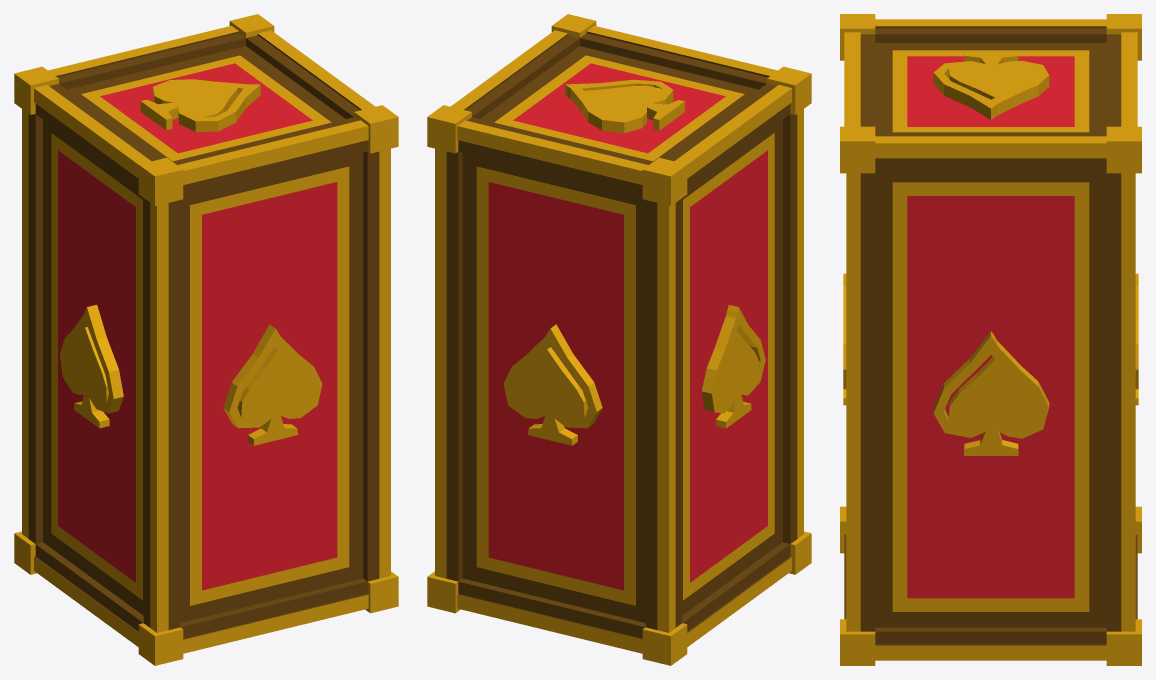
File: BoxTallv02.fbx
3 renders of one model, left to right at view 1: azimuth 30°, elevation 25°; view 2: azimuth 150°, elevation 25°; view 3: azimuth 270°, elevation 25°, orthographic. The views are drawn at different scales.
Visible parts, largest first — view 1: Text.005; view 2: Text.005; view 3: Text.005.
Boxes of the visible parts, box(x1,y1,x2,y2) form: Text.005: box(14, 14, 398, 665); Text.005: box(427, 14, 811, 665); Text.005: box(840, 14, 1141, 665).
Size of the model in its own units: 1 by 1.92 by 1.
